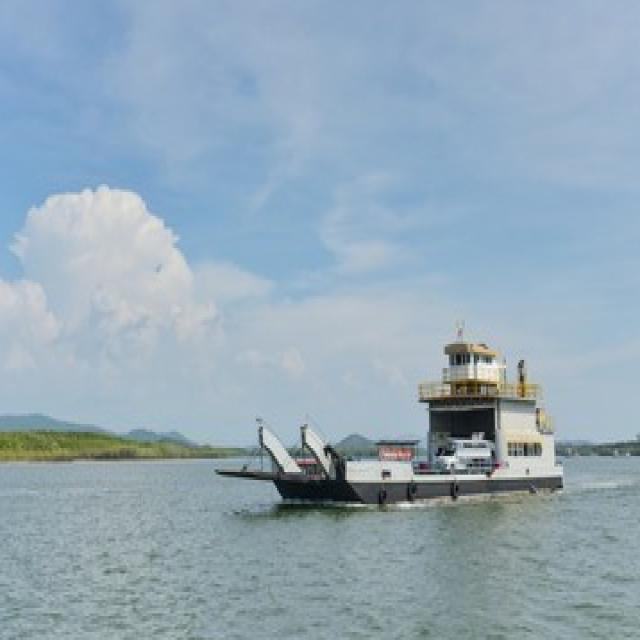fishing boat: (219, 312, 559, 507)
